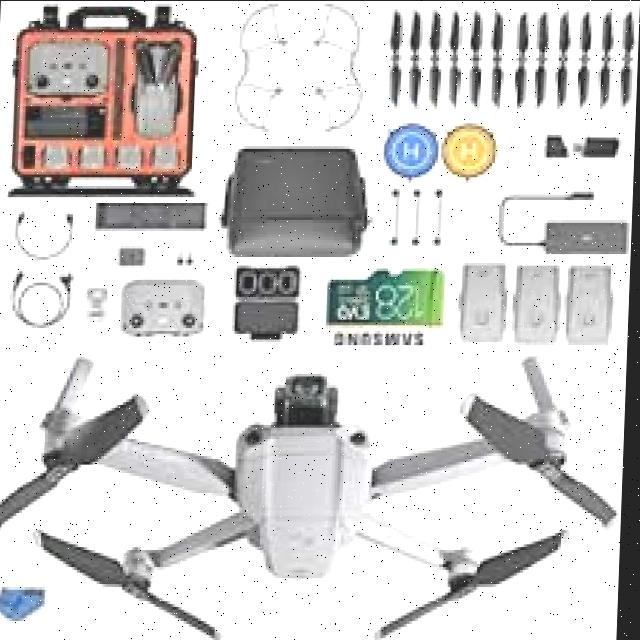drone: (0, 347, 630, 613)
